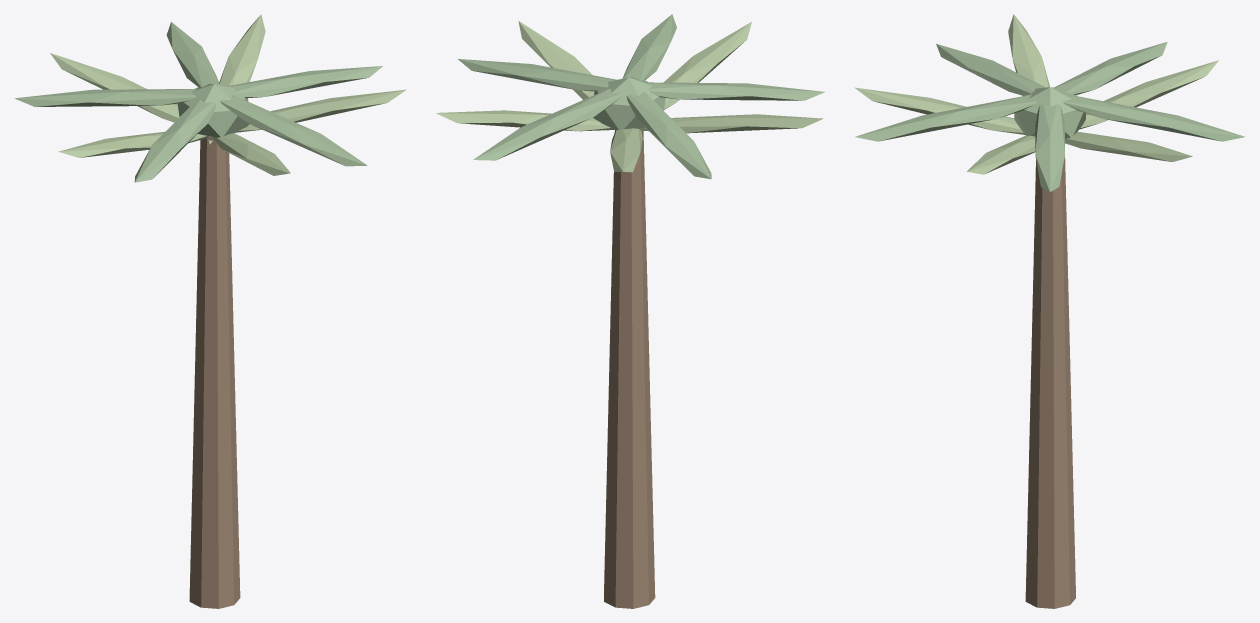
The model's file is washingtonia-palm.glb.
The picture shows the model from 3 angles, left to right: view 1: azimuth 30°, elevation 25°; view 2: azimuth 150°, elevation 25°; view 3: azimuth 270°, elevation 25°; orthographic projection.
Visible parts, largest first — view 1: Cone, frond_8, frond_4, frond_6, frond_0, frond_9, crown, frond_3, frond_1, frond_2, frond_5, frond_7; view 2: Cone, frond_2, frond_6, frond_4, frond_0, frond_5, frond_7, crown, frond_1, frond_8, frond_9, frond_3; view 3: Cone, frond_8, frond_2, frond_0, frond_4, frond_3, frond_6, frond_7, frond_1, crown, frond_5, frond_9.
Boxes of the visible parts, x1,y1,x2,y2 form: Cone: (189,136,240,608); frond_8: (220,95,367,166); frond_4: (14,89,197,106); frond_6: (134,99,215,182); frond_0: (191,66,382,101); frond_9: (234,89,406,132); crown: (177,83,249,137); frond_3: (50,53,179,122); frond_1: (208,14,265,144); frond_2: (166,22,219,87); frond_5: (58,131,208,157); frond_7: (211,133,290,175); Cone: (604,130,655,608); frond_2: (473,88,622,160); frond_6: (602,82,824,100); frond_4: (626,92,711,179); frond_0: (458,59,651,95); frond_5: (640,114,823,133); frond_7: (663,22,751,109); crown: (593,77,665,129); frond_1: (436,110,614,131); frond_8: (622,14,676,80); frond_9: (518,21,642,138); frond_3: (610,128,642,172); Cone: (1025,156,1075,608); frond_8: (855,94,1037,141); frond_2: (1062,94,1244,141); frond_0: (1035,104,1064,191); frond_4: (1054,42,1167,94); frond_3: (1079,60,1218,129); frond_6: (936,43,1065,108); frond_7: (854,87,1024,134); frond_1: (1065,131,1192,161); crown: (1014,87,1085,138); frond_5: (1008,14,1049,95); frond_9: (967,135,1035,174).
Size of the model in its own units: 3.95 by 5.64 by 3.92.
